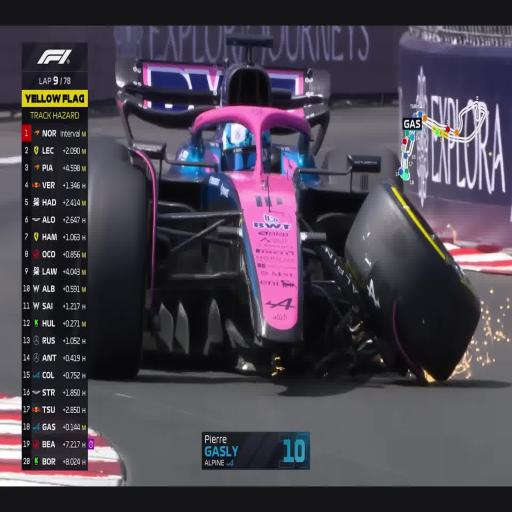f1_car: (87, 36, 480, 381)
